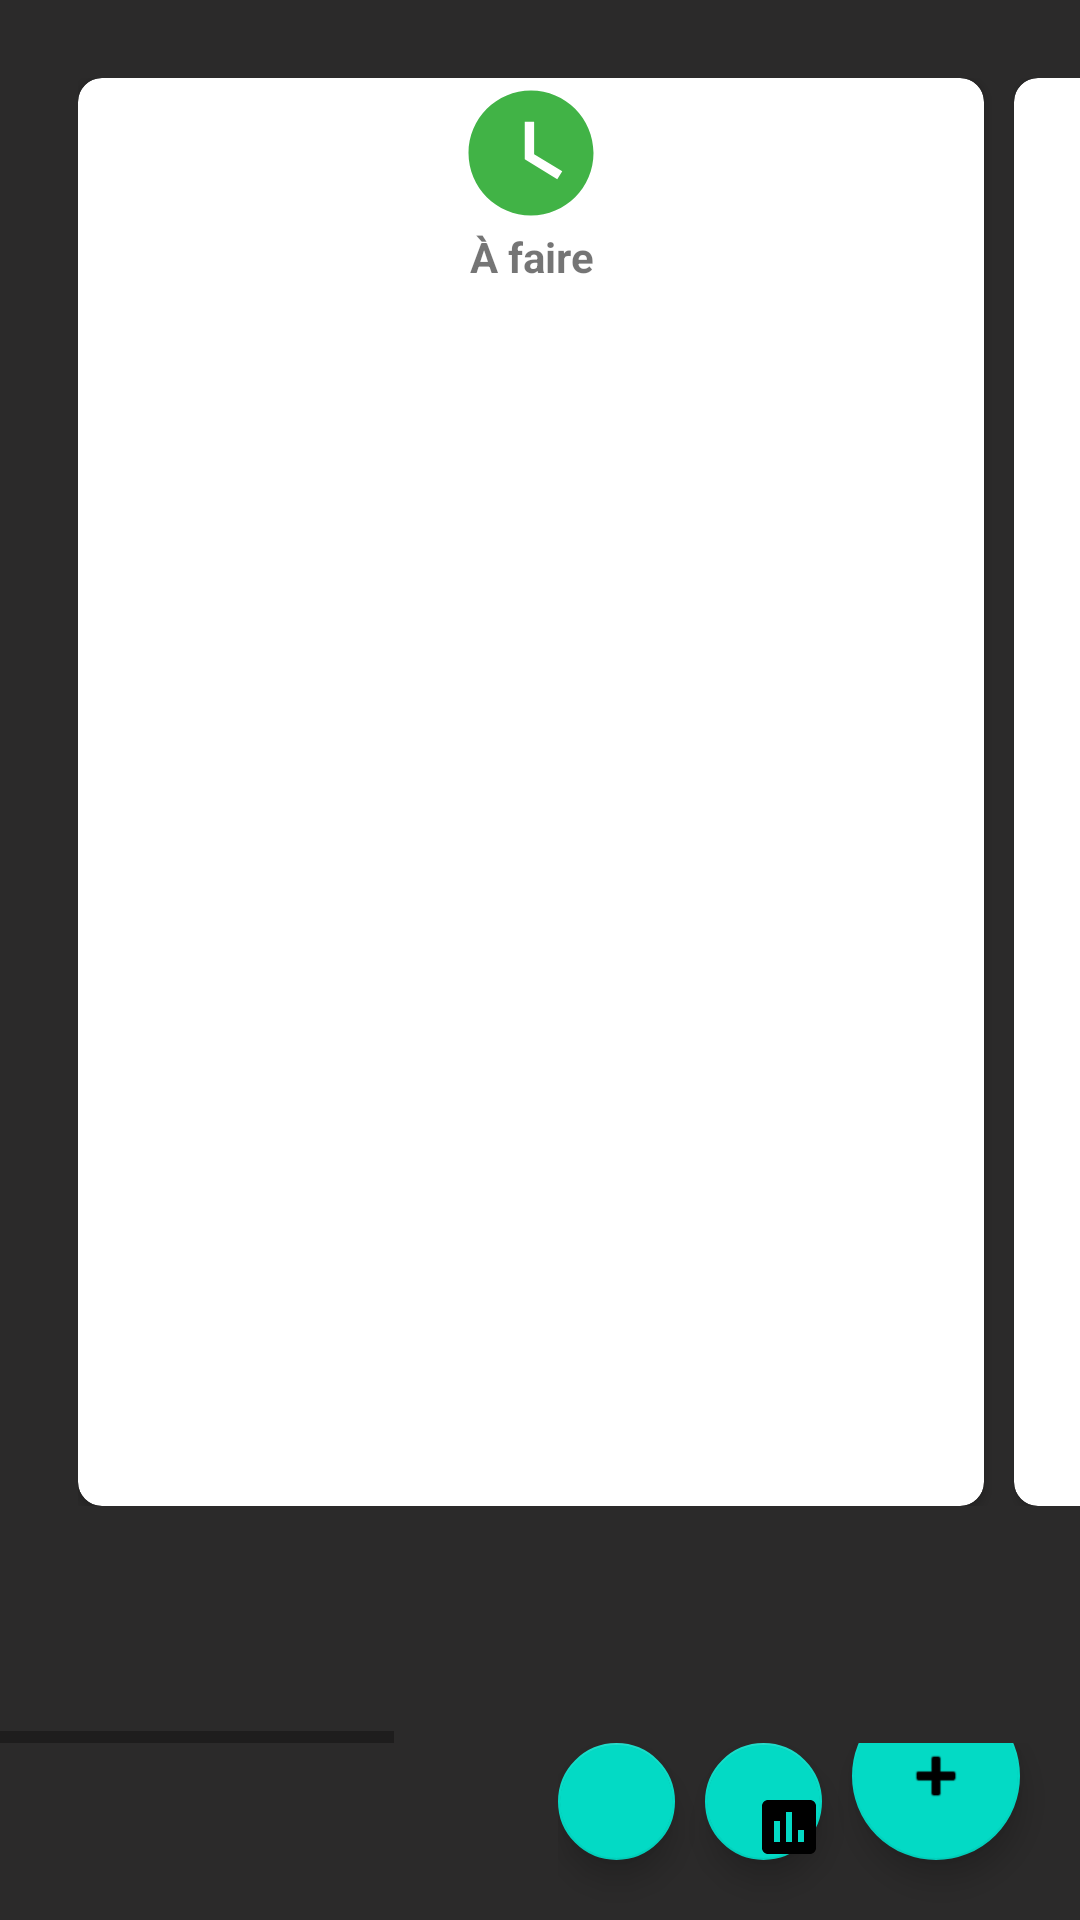

Icon bounding boxes for this 1080x1920 phone screenshot, format (x1, y1, x2, y2):
watch later: (468, 90, 594, 216)
